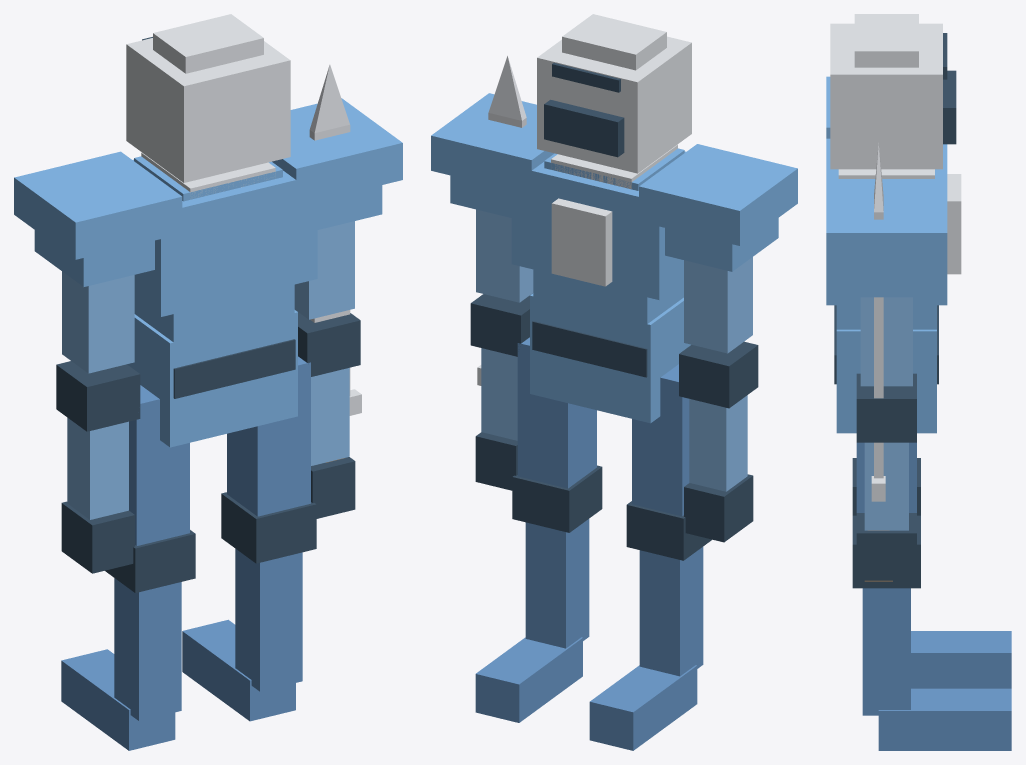
The model's file is player_knight.glb.
The picture shows the model from 3 angles, left to right: view 1: azimuth 30°, elevation 25°; view 2: azimuth 150°, elevation 25°; view 3: azimuth 270°, elevation 25°; orthographic projection. The views are drawn at different scales.
Visible parts, largest first — view 1: GEO-knight_body, GEO-arm_L, GEO-leg_R, GEO-arm_R, GEO-leg_L; view 2: GEO-knight_body, GEO-arm_L, GEO-leg_R, GEO-leg_L, GEO-arm_R; view 3: GEO-arm_R, GEO-knight_body, GEO-leg_R, GEO-leg_L.
Boxes of the visible parts, box(x1,y1,x2,y2) form: GEO-knight_body: box(126, 14, 317, 447); GEO-arm_L: box(14, 151, 182, 573); GEO-leg_R: box(182, 356, 316, 721); GEO-arm_R: box(272, 64, 402, 518); GEO-leg_L: box(61, 385, 195, 750); GEO-knight_body: box(511, 14, 691, 423); GEO-arm_L: box(639, 144, 797, 542); GEO-leg_R: box(475, 337, 602, 722); GEO-leg_L: box(589, 364, 711, 750); GEO-arm_R: box(431, 56, 554, 490); GEO-arm_R: box(826, 143, 947, 581); GEO-knight_body: box(826, 14, 961, 433); GEO-leg_R: box(852, 442, 1011, 750); GEO-leg_L: box(852, 458, 1011, 688).
Bounding box in the file's own units: 0.92 × 1.86 × 0.46.
